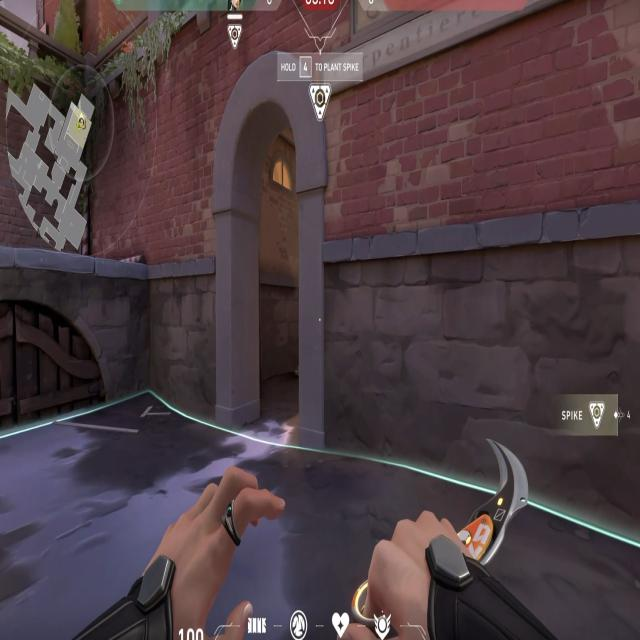B_Boathouse: (199, 36, 345, 470)
